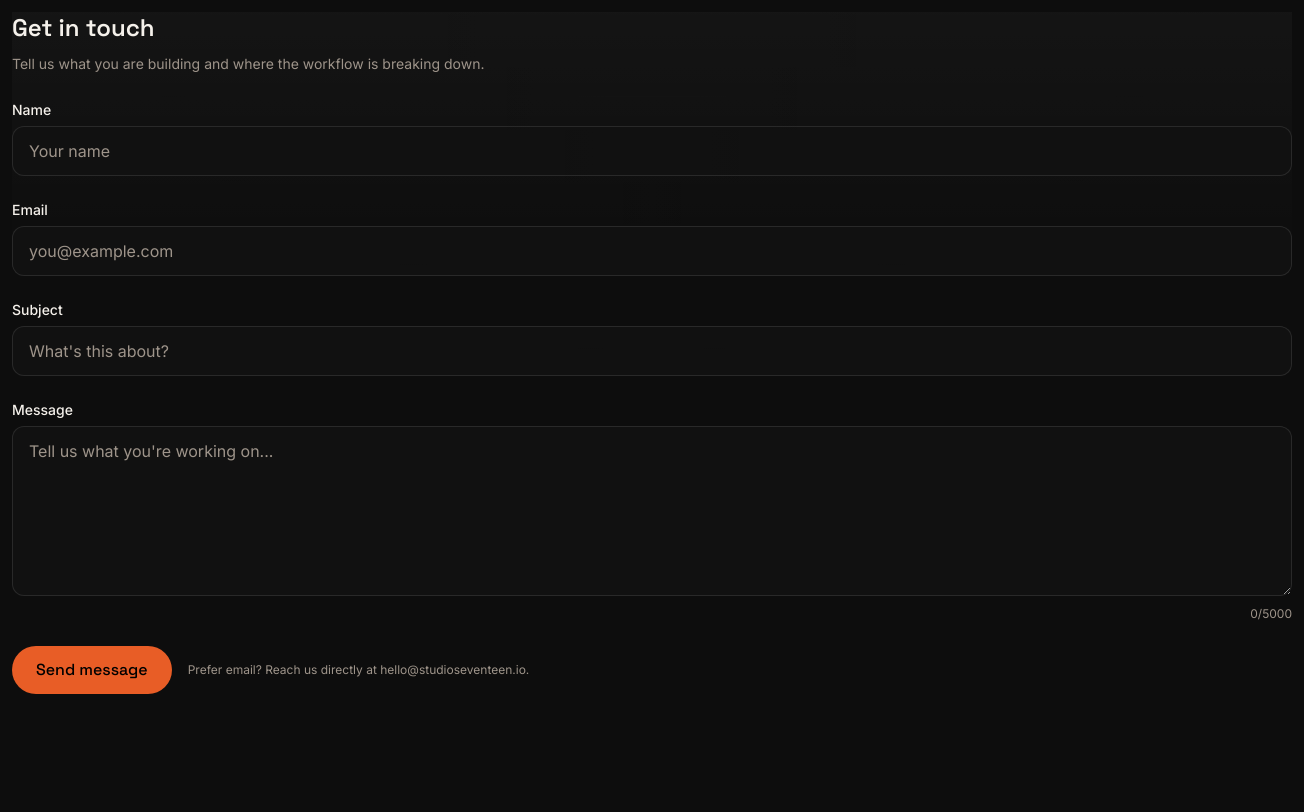
Test: ContactForm — validation › shows error for invalid email
The width and height of the screenshot is (1304, 812).
In the field labelled "Email": (652, 251) [12,226,1292,276], type "not-an-email"
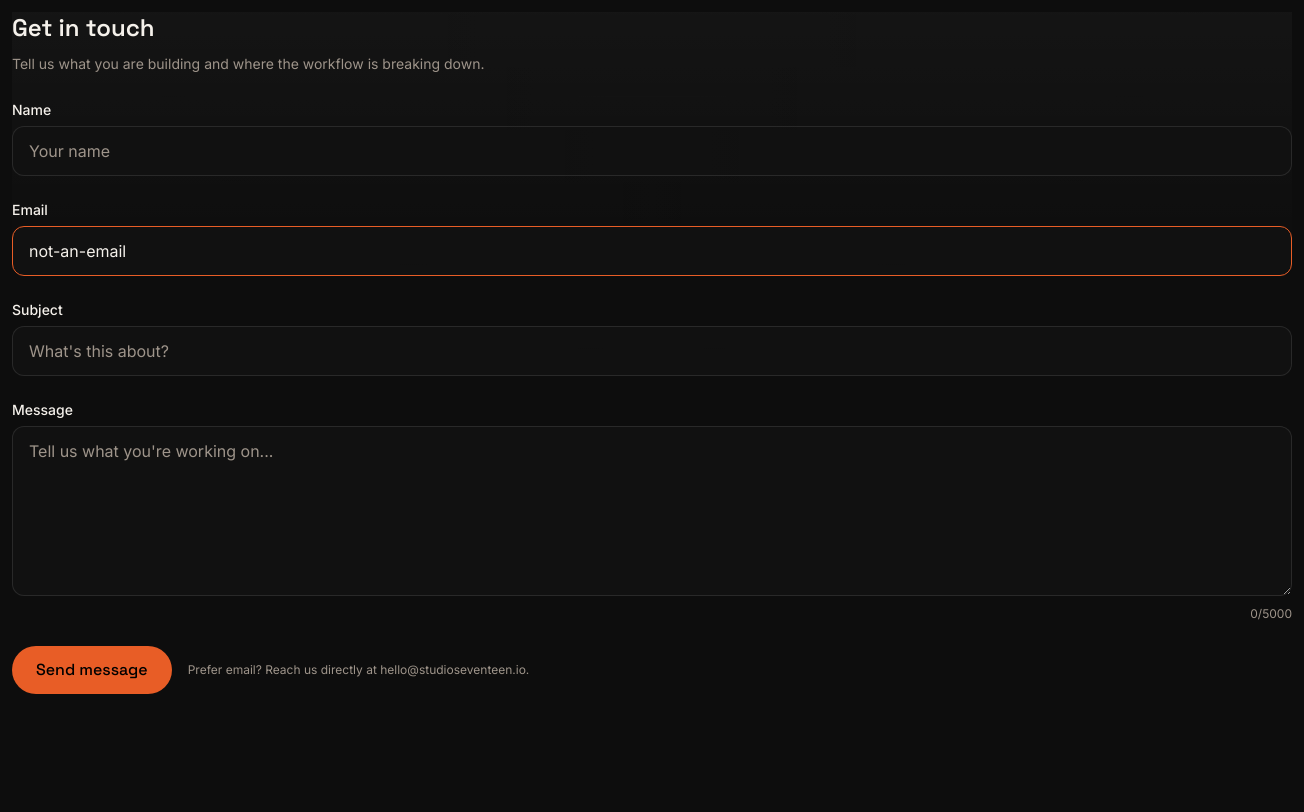
Submit the form named "send message"
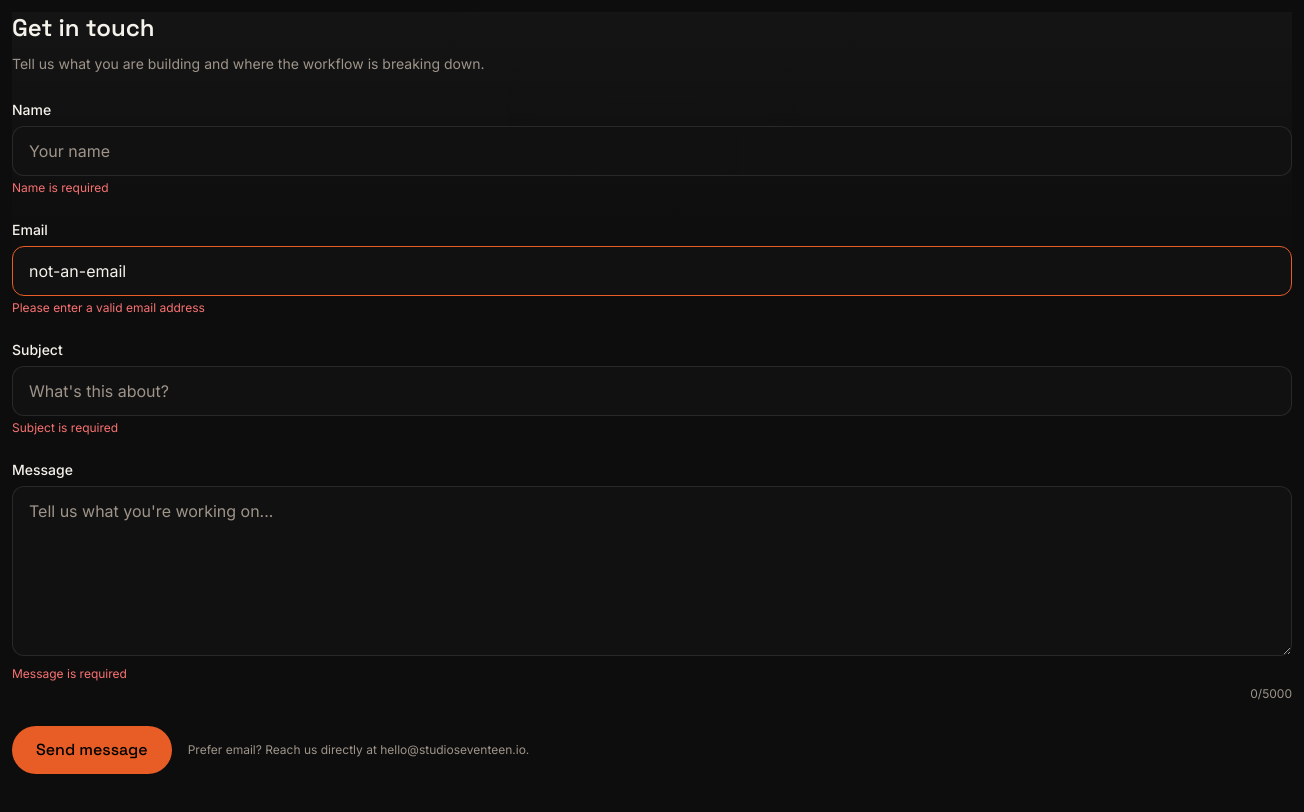
Expected: the text "Please enter a valid email address" is shown, [12,300,205,315]
